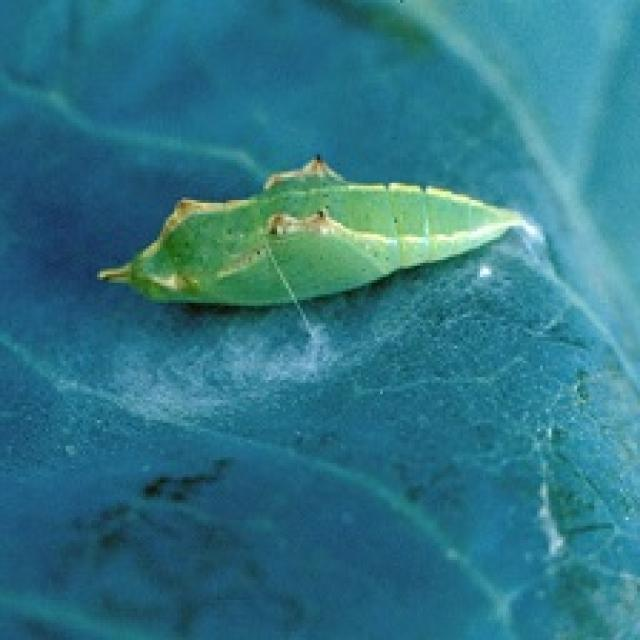Cabbage-worm: (107, 162, 538, 326)
